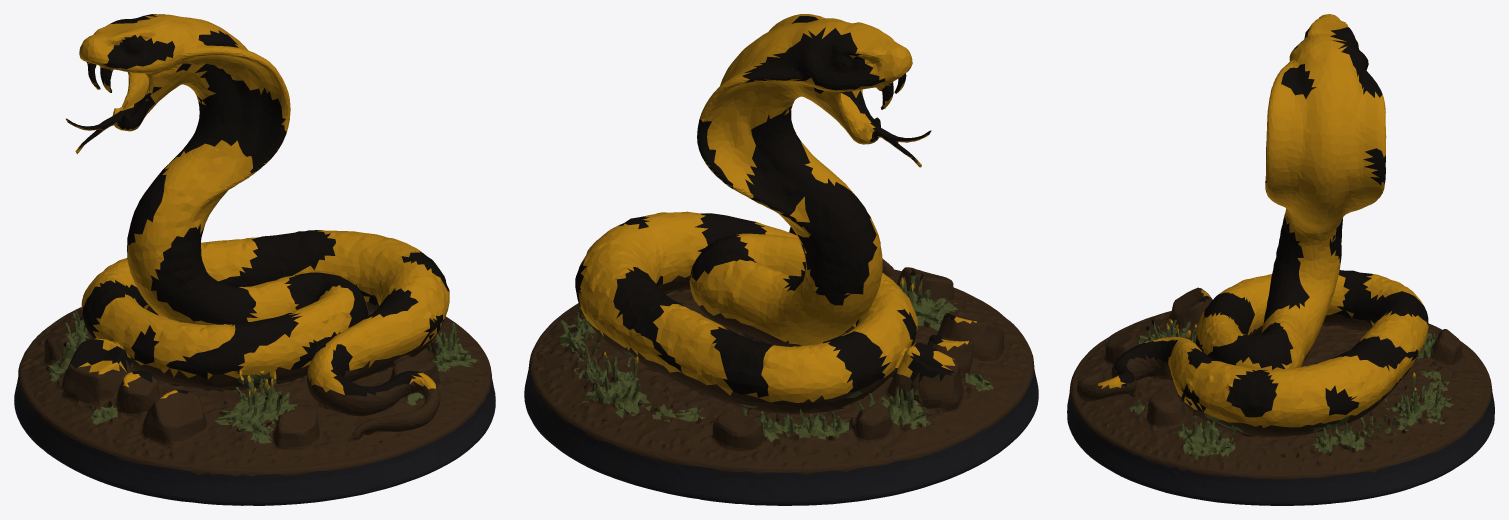
The model's file is cobra_venenosa_corrigida.glb.
The picture shows the model from 3 angles, left to right: view 1: azimuth 30°, elevation 25°; view 2: azimuth 150°, elevation 25°; view 3: azimuth 270°, elevation 25°; orthographic projection. The views are drawn at different scales.
Parts seen in each view (by area): view 1: tmpqq1k9c9k.ply; view 2: tmpqq1k9c9k.ply; view 3: tmpqq1k9c9k.ply.
Boxes of the visible parts, x1=… form: tmpqq1k9c9k.ply: x1=14, y1=14, x2=495, y2=505; tmpqq1k9c9k.ply: x1=524, y1=14, x2=1038, y2=505; tmpqq1k9c9k.ply: x1=1067, y1=14, x2=1494, y2=505.
Bounding box in the file's own units: 1.96 × 1.77 × 1.96.
